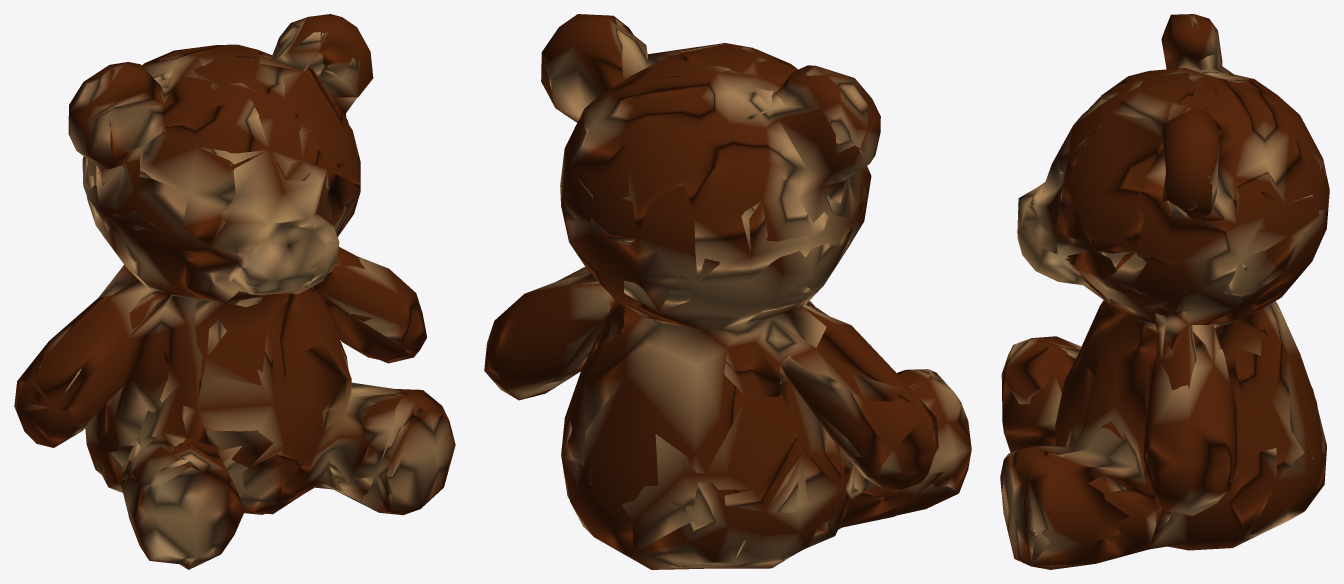
The model's file is gen3d-teddy-bear-lod0.glb.
The picture shows the model from 3 angles, left to right: view 1: azimuth 30°, elevation 25°; view 2: azimuth 150°, elevation 25°; view 3: azimuth 270°, elevation 25°; orthographic projection. The views are drawn at different scales.
Parts seen in each view (by area): view 1: part_0; view 2: part_0; view 3: part_0.
Boxes of the visible parts, x1,y1,x2,y2 form: part_0: [14, 14, 455, 569]; part_0: [484, 14, 971, 569]; part_0: [1000, 14, 1329, 569].
Size of the model in its own units: 0.9513 by 1 by 0.6617.
